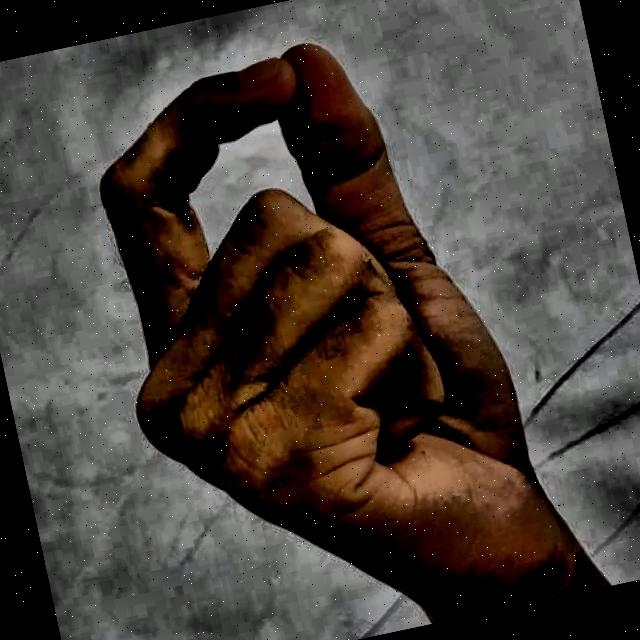Gha: (26, 0, 629, 640)
